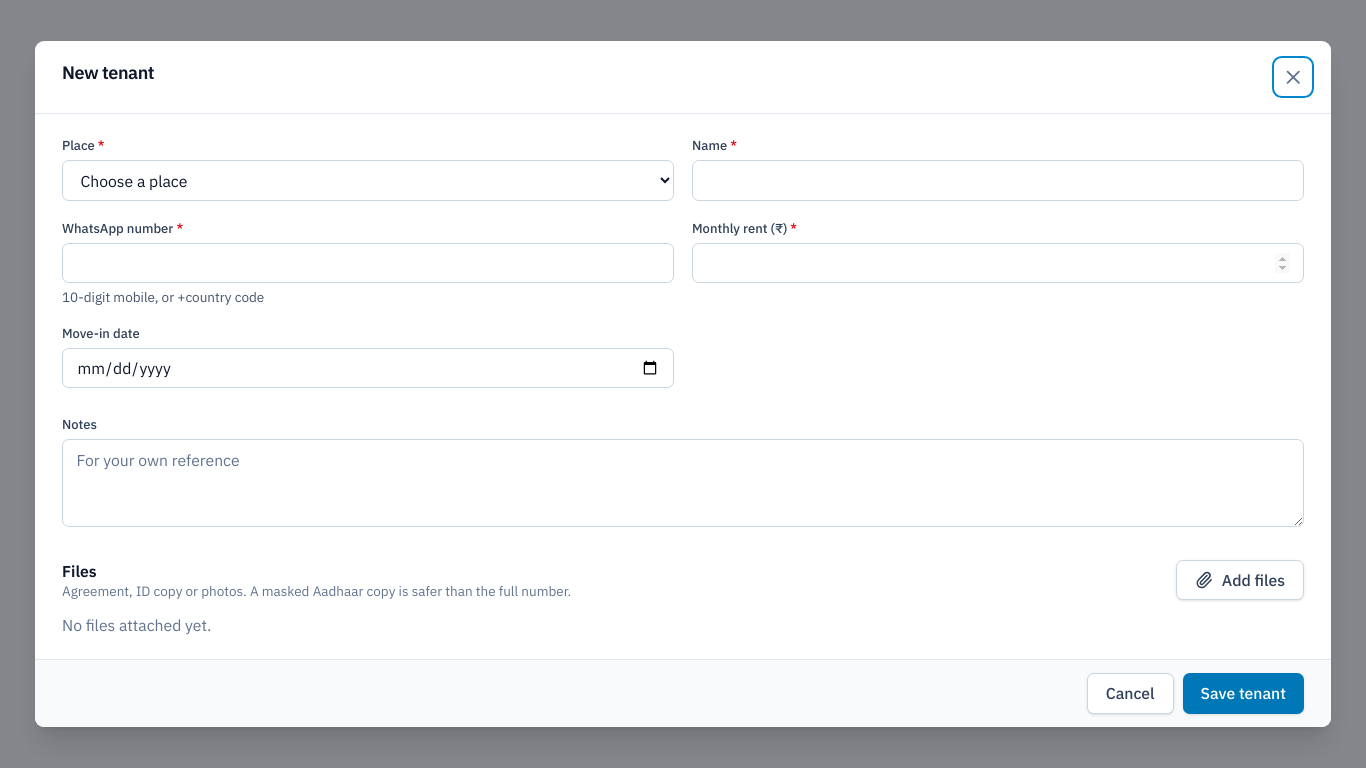
a new tenant › refuses {}
The image size is (1366, 768).
Step 1. Click the button "Save tenant" → (1243, 693), box [1183, 673, 1304, 714]
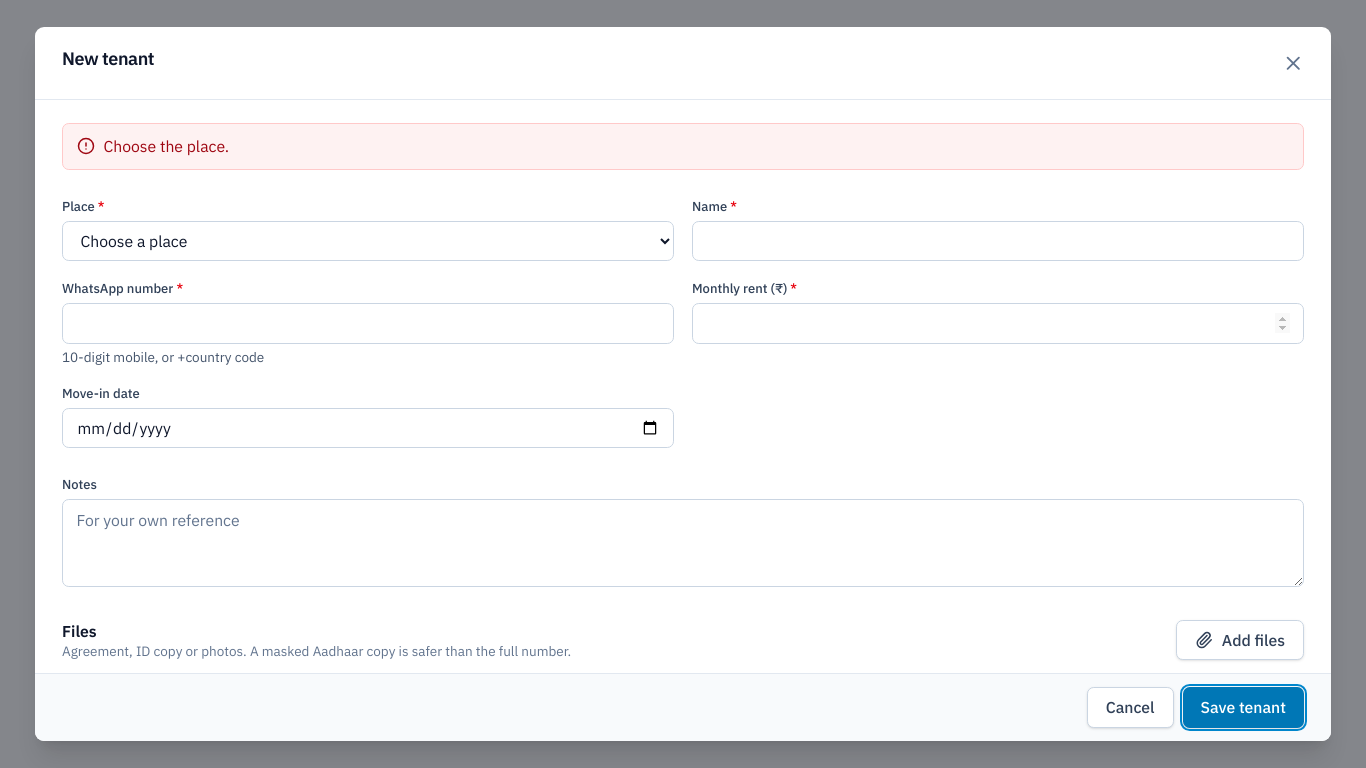
Result: the message reads "Choose the place." at [104, 136, 229, 156]
